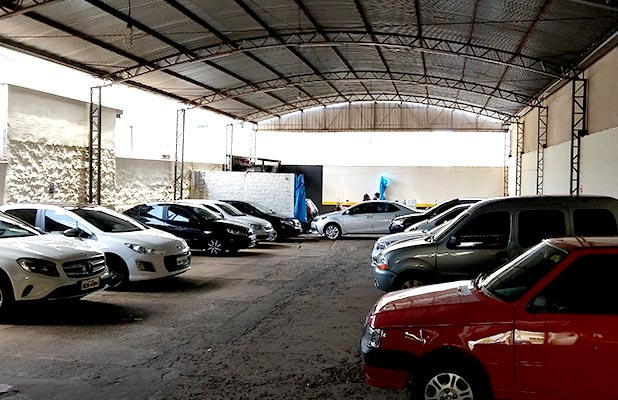Carro: (350, 225, 618, 398), (371, 193, 616, 290), (1, 194, 193, 290), (1, 210, 119, 314), (122, 203, 257, 265), (173, 198, 275, 245), (309, 198, 431, 237), (217, 198, 304, 240)
